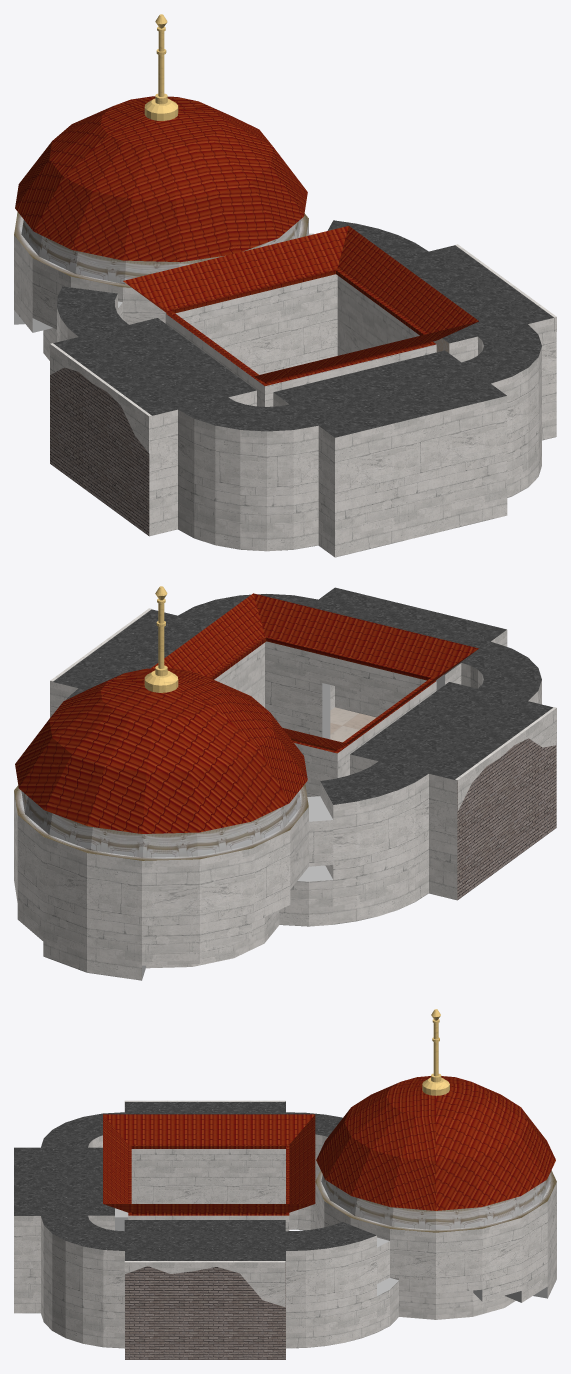
Rendered from map.obj.
3 views of the same model, one above another, from view 1: azimuth 30°, elevation 25°; view 2: azimuth 150°, elevation 25°; view 3: azimuth 270°, elevation 25° (orthographic). The views are drawn at different scales.
Visible parts, largest first — view 1: Palace; view 2: Palace; view 3: Palace.
Boxes of the visible parts, x1=… form: Palace: x1=14, y1=14, x2=556, y2=557; Palace: x1=14, y1=586, x2=556, y2=980; Palace: x1=14, y1=1009, x2=556, y2=1359.
Size of the model in its own units: 28.5 by 22.49 by 40.44.
